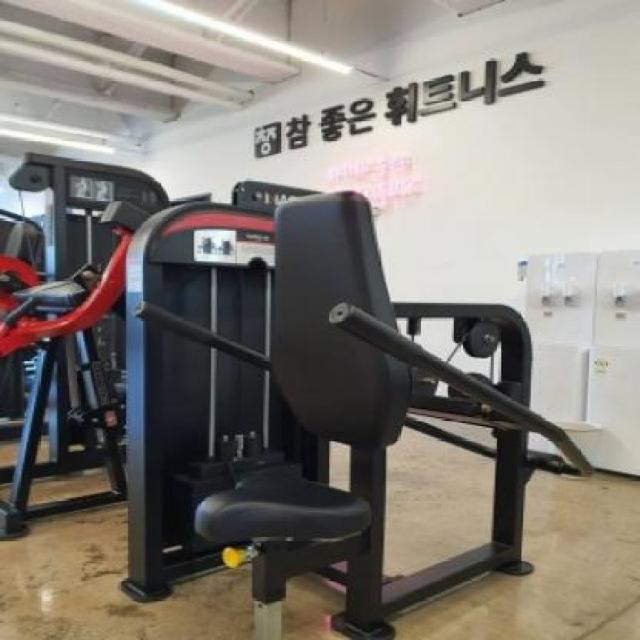seated dip machine: (126, 192, 591, 640)
